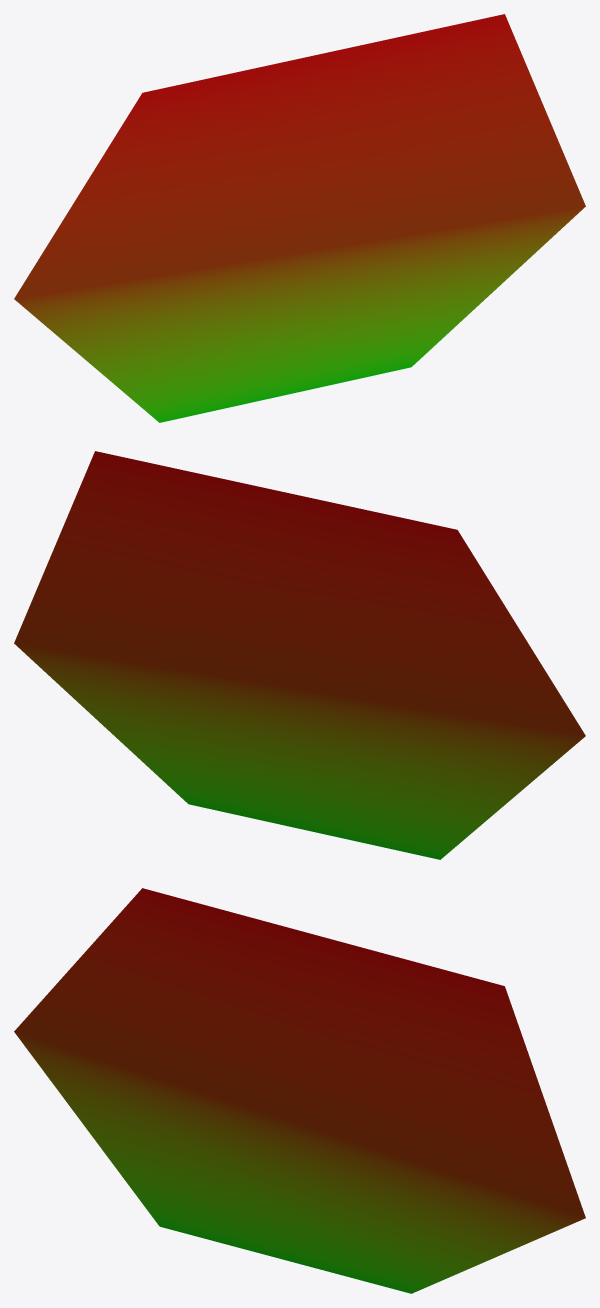
The model's file is Cotton Grass_LOD4_Var6_wlykecdia.fbx.
The picture shows the model from 3 angles, top to bottom: view 1: azimuth 30°, elevation 25°; view 2: azimuth 150°, elevation 25°; view 3: azimuth 330°, elevation 25°; orthographic projection.
Visible parts, largest first — view 1: _2zt2_Var6_LOD4; view 2: _2zt2_Var6_LOD4; view 3: _2zt2_Var6_LOD4.
Boxes of the visible parts, x1,y1,x2,y2 form: _2zt2_Var6_LOD4: (14,14,585,422); _2zt2_Var6_LOD4: (14,451,585,859); _2zt2_Var6_LOD4: (14,888,585,1293).
Bounding box in the file's own units: 26.32 × 14.95 × 1.84e-07.
